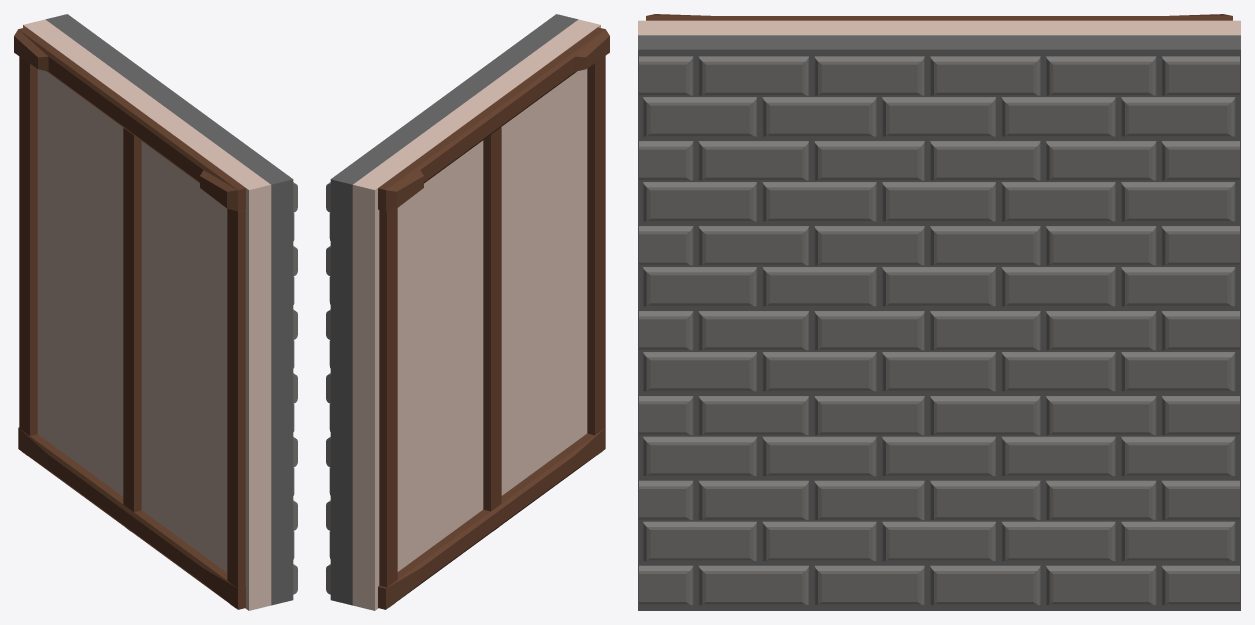
Rendered from broken_FlaskSquare.fbx_floor3.fbx_Walls.fbx.
The picture shows the model from 3 angles, left to right: view 1: azimuth 30°, elevation 25°; view 2: azimuth 150°, elevation 25°; view 3: azimuth 270°, elevation 25°; orthographic projection. The views are drawn at different scales.
Parts seen in each view (by area): view 1: Cube; view 2: Cube; view 3: Cube.
Part boxes in pixels (x1,y1,x2,y2): Cube: (14,14,297,610); Cube: (326,14,609,610); Cube: (638,14,1240,610).
Bounding box in the file's own units: 32.7 × 198 × 193.
